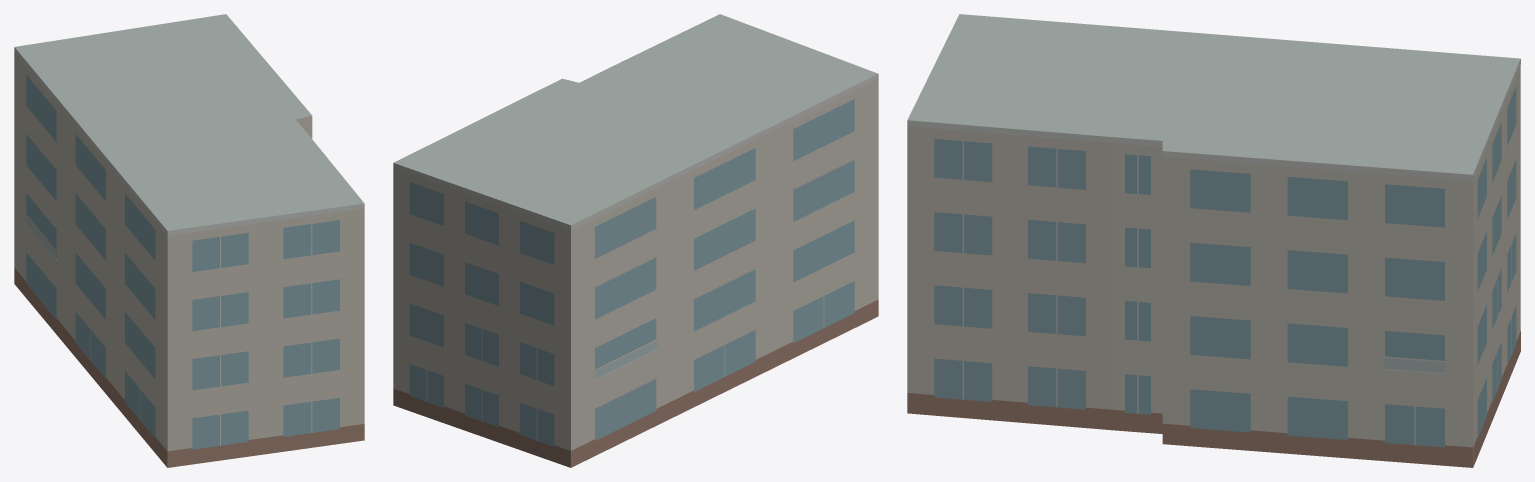
File: survey-upis-32674700.glb
The picture shows the model from 3 angles, left to right: view 1: azimuth 30°, elevation 25°; view 2: azimuth 150°, elevation 25°; view 3: azimuth 270°, elevation 25°; orthographic projection. The views are drawn at different scales.
Parts seen in each view (by area): view 1: survey-upis-32674700.tmp; view 2: survey-upis-32674700.tmp; view 3: survey-upis-32674700.tmp.
Part boxes in pixels (x1,y1,x2,y2): survey-upis-32674700.tmp: (14,14,364,467); survey-upis-32674700.tmp: (393,14,878,467); survey-upis-32674700.tmp: (907,14,1520,467).
Size of the model in its own units: 13.95 by 11.85 by 22.49.
